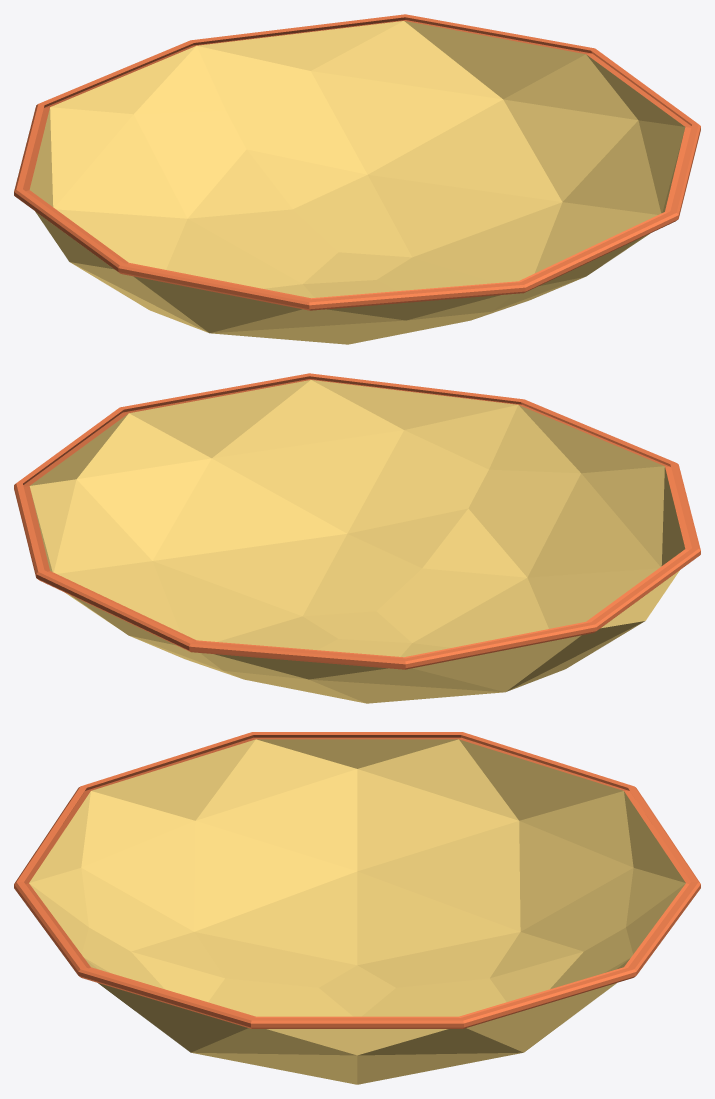
Rendered from plate_001_grp.fbx.
The picture shows the model from 3 angles, top to bottom: view 1: azimuth 30°, elevation 25°; view 2: azimuth 150°, elevation 25°; view 3: azimuth 270°, elevation 25°; orthographic projection. The views are drawn at different scales.
Visible parts, largest first — view 1: plate_001_grp; view 2: plate_001_grp; view 3: plate_001_grp.
Boxes of the visible parts, bbox=[...] form: plate_001_grp: bbox=[14, 14, 700, 344]; plate_001_grp: bbox=[14, 373, 700, 703]; plate_001_grp: bbox=[14, 732, 700, 1084].
Bounding box in the file's own units: 40 × 8 × 40.
